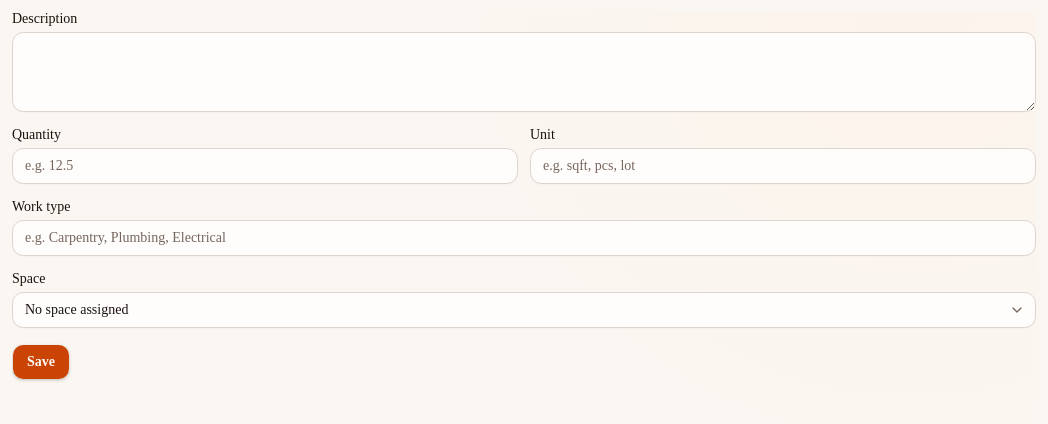
WorkItemForm › rejects a non-positive quantity
Type "Install cabinets" into the text box labelled "Description".
click(524, 72); type("Install cabinets")  # box [12,32,1036,112]
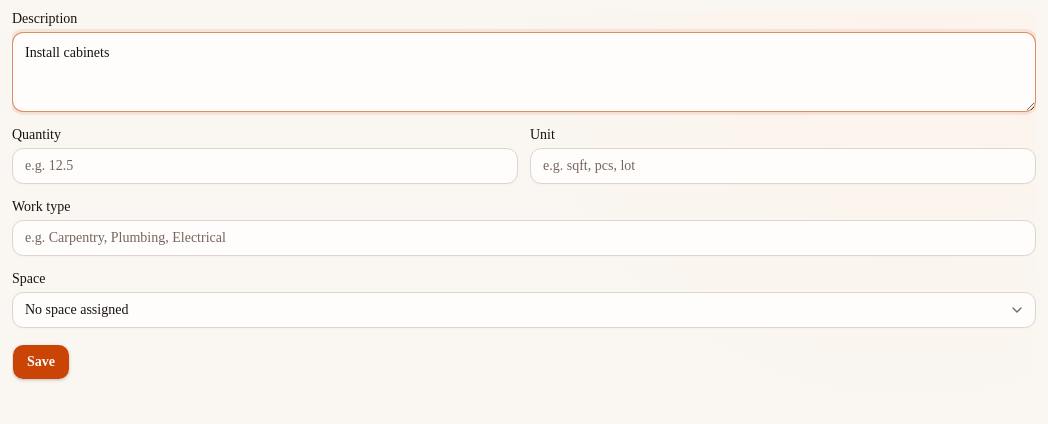
Type "0" into the field labelled "Quantity".
click(265, 166); type("0")  # box [12,148,518,184]
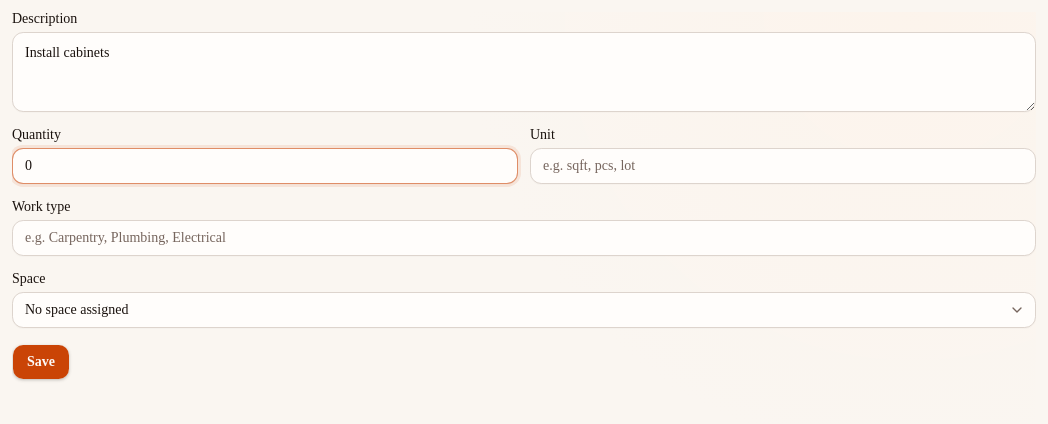
Type "sqft" into the field labelled "Unit".
click(783, 166); type("sqft")  # box [530,148,1036,184]
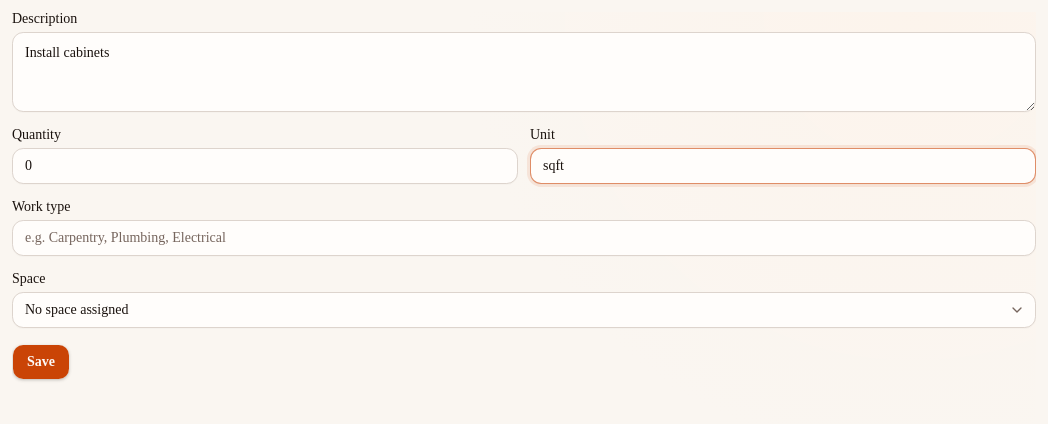
Click the button "Save".
click(41, 362)  # box [12,344,70,380]
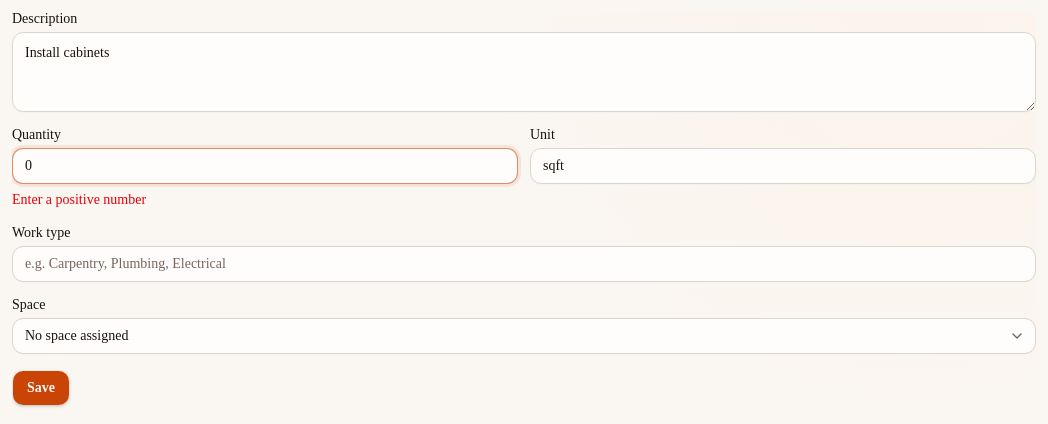
Check: the text "Enter a positive number" is shown, box [12,192,146,207]
